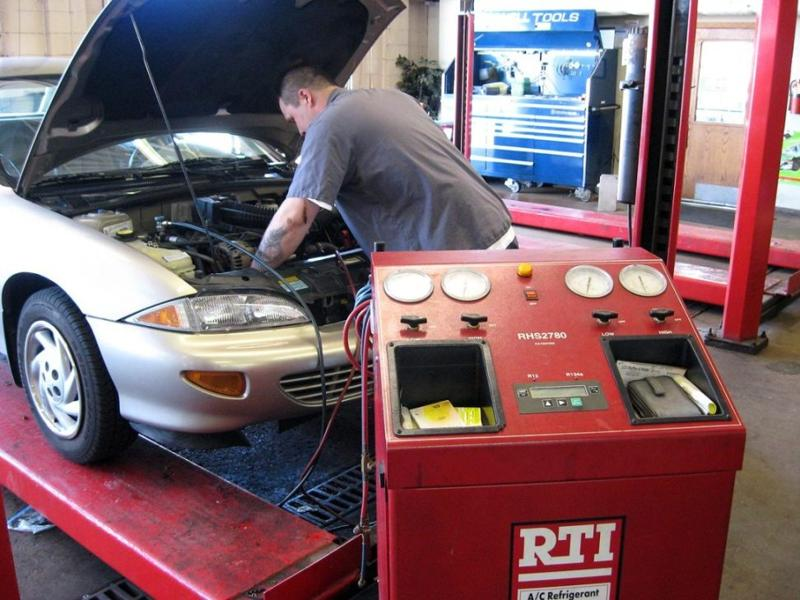person: (250, 64, 521, 270)
